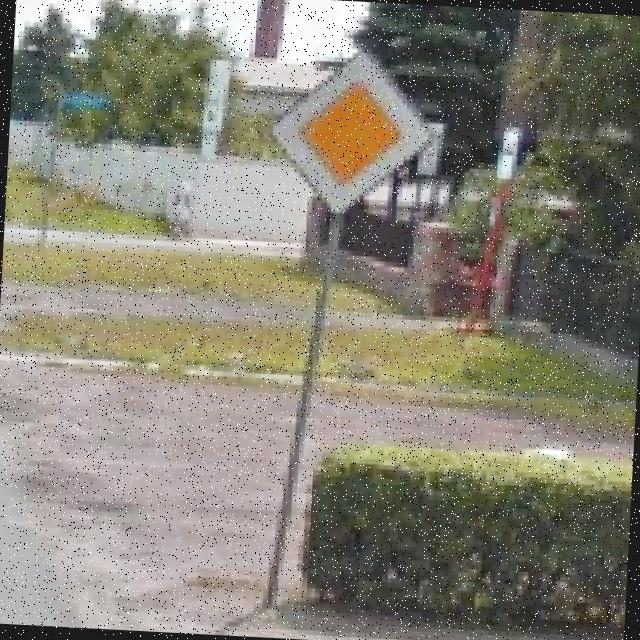Droga z pierwszenstwem: (265, 45, 438, 222)
